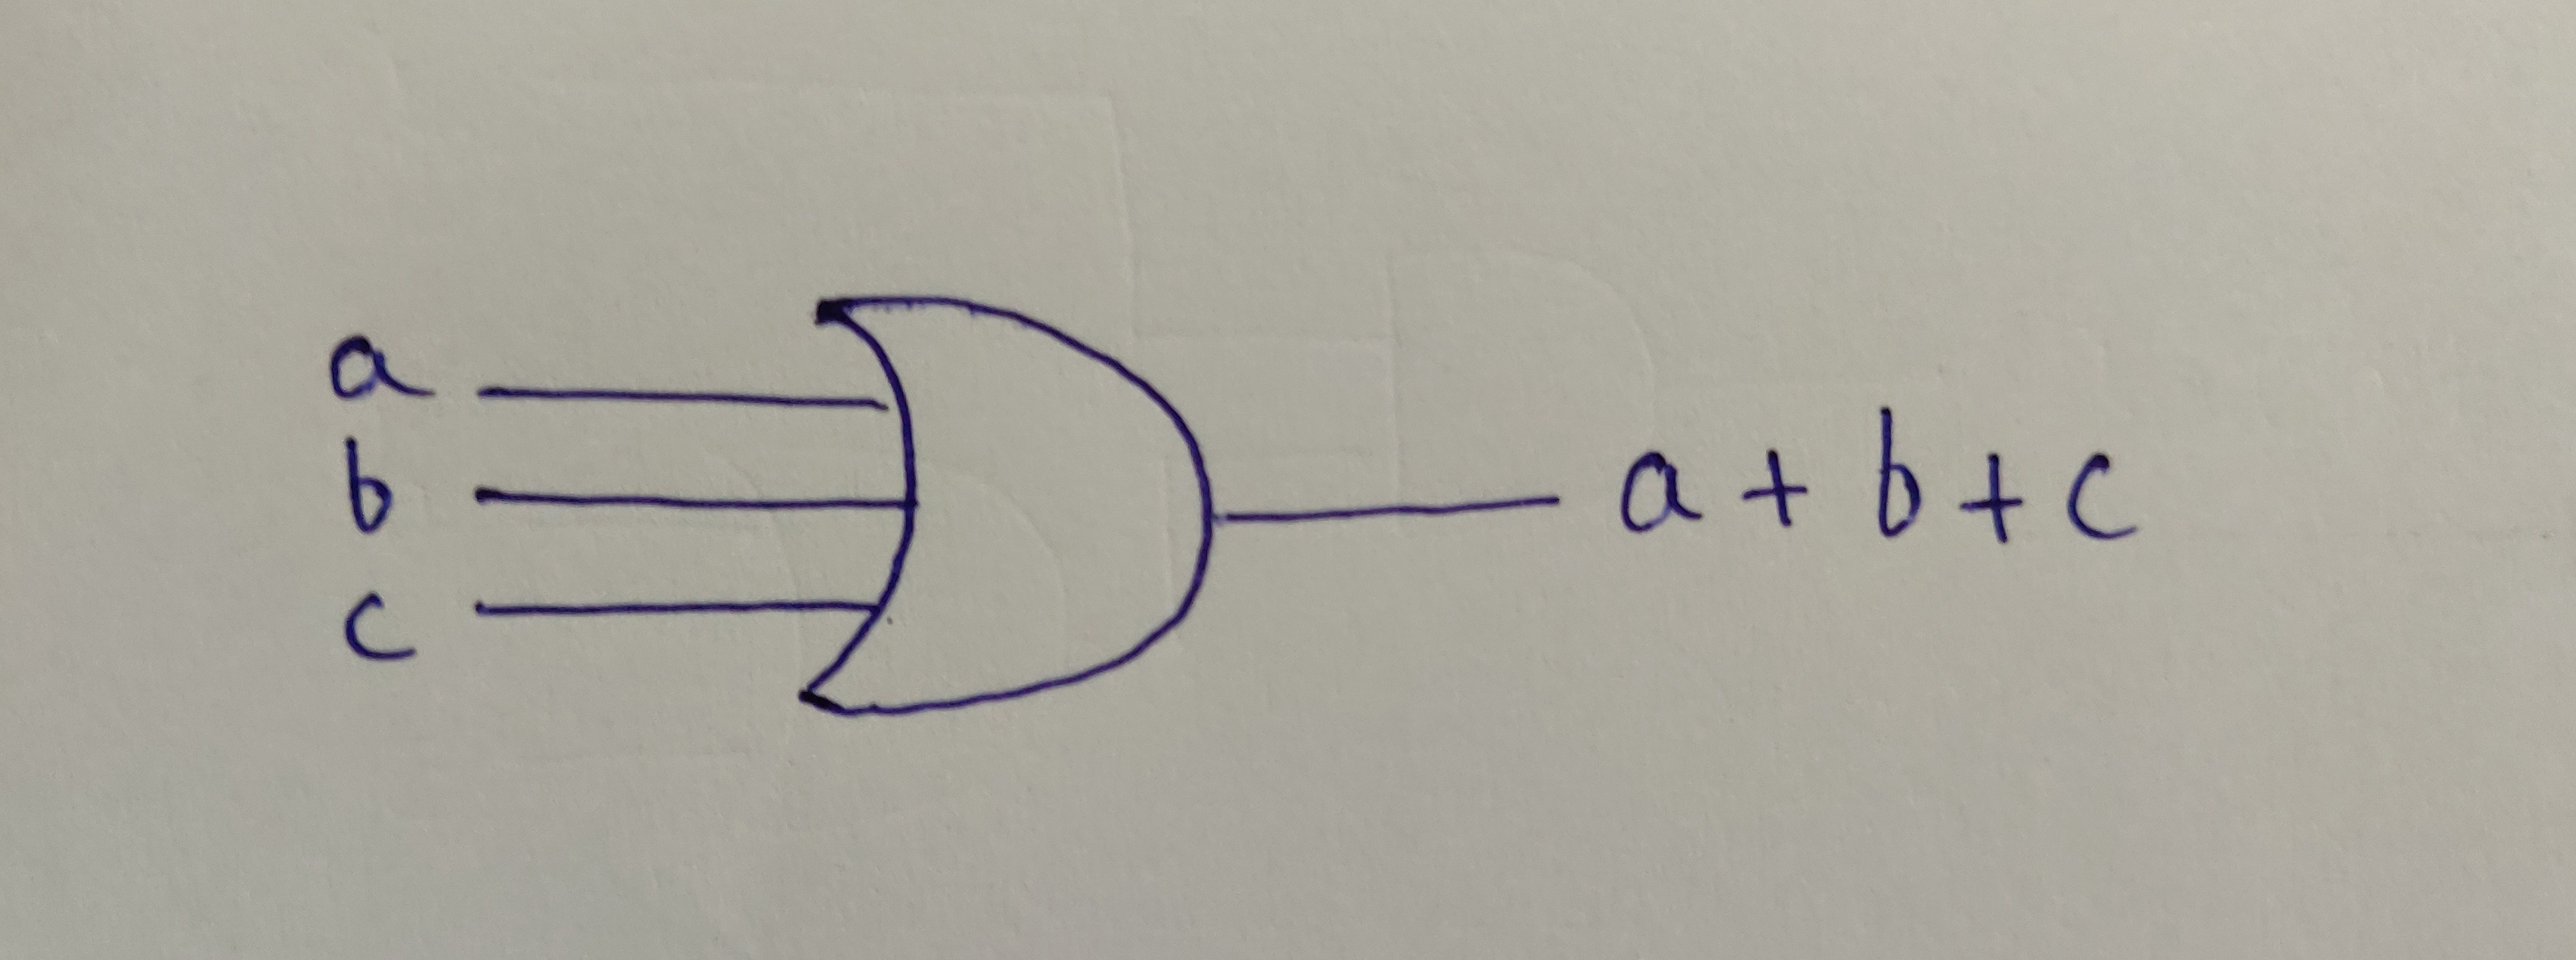or: (721, 230, 1295, 771)
